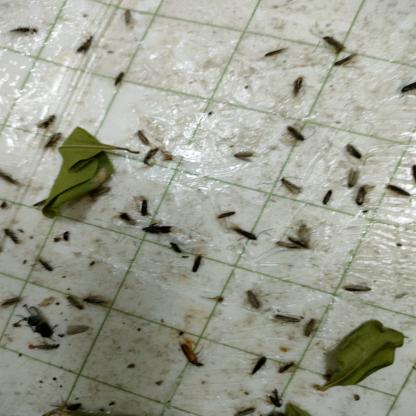prays_oleae: (275, 170, 315, 212), (273, 218, 311, 262), (176, 332, 207, 378), (241, 349, 270, 390), (0, 278, 22, 322), (275, 300, 306, 330), (342, 132, 366, 170), (256, 39, 290, 65), (285, 118, 308, 155), (242, 276, 263, 316), (394, 71, 416, 109), (82, 281, 108, 313), (73, 24, 98, 57), (317, 30, 344, 60), (341, 276, 368, 305), (230, 221, 259, 245), (66, 315, 89, 342), (292, 72, 311, 104), (0, 158, 20, 188), (382, 182, 409, 204), (141, 224, 173, 241), (278, 353, 298, 380), (115, 208, 137, 231), (233, 140, 252, 166), (187, 248, 203, 277), (304, 312, 321, 338), (32, 250, 52, 272), (355, 180, 370, 208), (216, 200, 238, 219), (35, 110, 61, 126), (3, 222, 20, 246), (320, 184, 334, 212), (45, 129, 62, 152), (65, 291, 84, 309), (143, 146, 162, 164), (134, 126, 150, 147), (344, 164, 356, 192), (138, 198, 152, 217), (112, 63, 124, 85), (165, 241, 180, 257)
